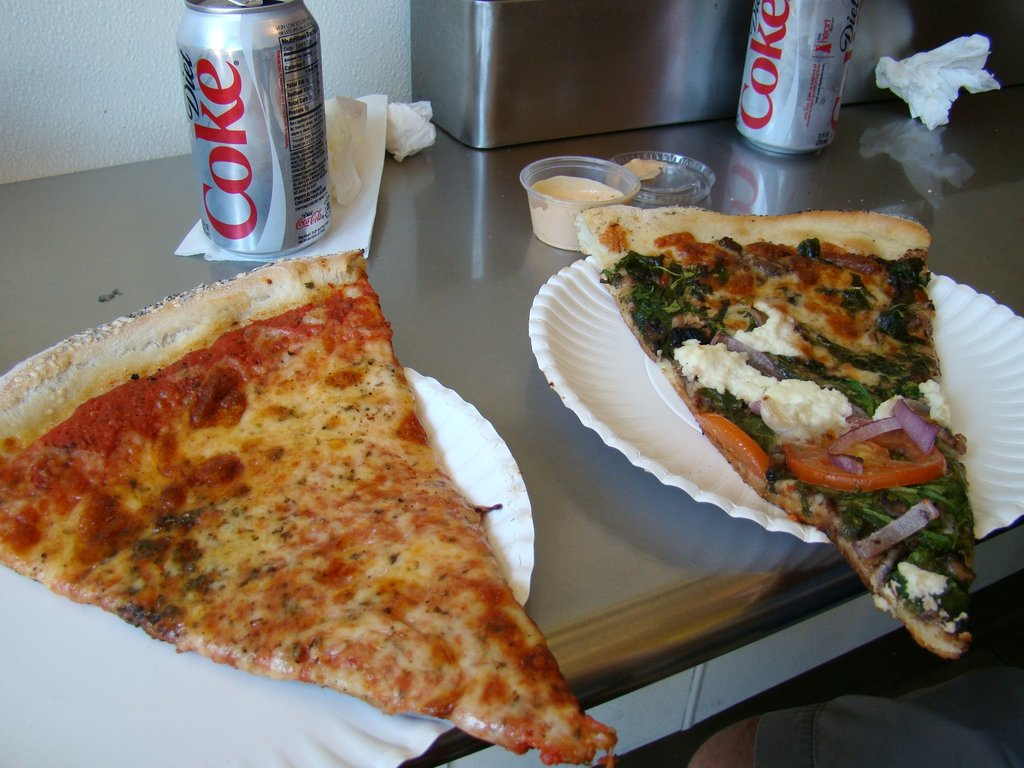Pizza: (0, 243, 611, 764), (572, 204, 977, 655)
